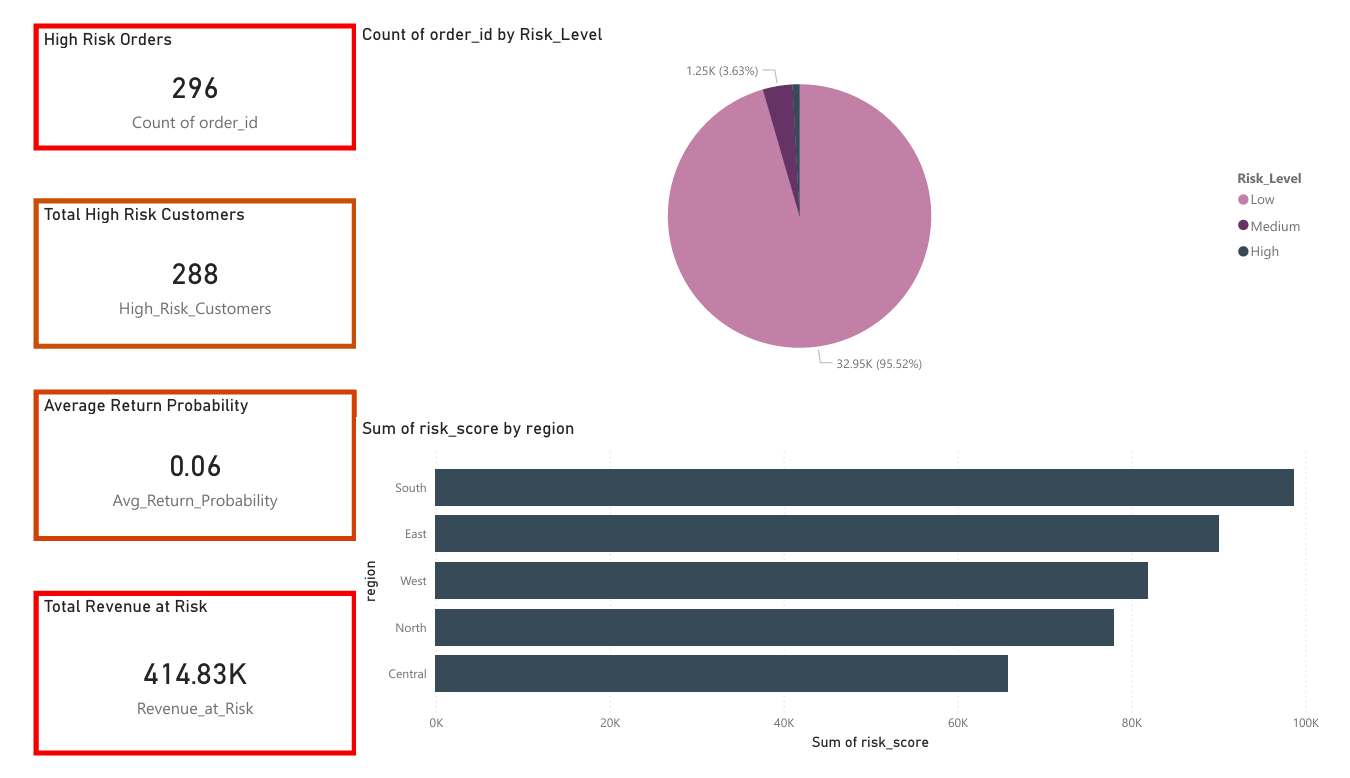

The page's visual inventory and layout, read from the dashboard file:
{"tool":"powerbi","page":{"name":"Risk Monitoring Dashboard","canvas":[1280,720],"ordinal":1},"visuals":[{"type":"card","title":"High Risk Orders","fields":{"Values":["CountNonNull(ai_output.order_id)"]},"box":[9.6,0,318.4,124.9],"z":0},{"type":"card","title":"Total Revenue at Risk","fields":{"Values":["ai_output.Revenue_at_Risk"]},"box":[9.6,558.5,318.4,161.9],"z":1000},{"type":"card","title":"Total High Risk Customers","fields":{"Values":["ai_output.High_Risk_Customers"]},"box":[9.6,171.5,318.4,148.2],"z":2000},{"type":"card","title":"Average Return Probability","fields":{"Values":["ai_output.Avg_Return_Probability"]},"box":[9.6,359.5,318.4,149.6],"z":3000},{"type":"pieChart","fields":{"Category":["ai_output.Risk_Level"],"Y":["CountNonNull(ai_output.order_id)"]},"box":[328,0,952.3,359.5],"z":4000},{"type":"barChart","fields":{"Category":["ai_output.region"],"Y":["Sum(ai_output.risk_score)"]},"box":[328,388.3,952.3,332.1],"z":5000}]}

Visuals, with their boxes in screenshot pixels (x1, y1, x2, y2), scaled from the page's 1280x720 canvas onto the 1350x778 screenshot:
"High Risk Orders" card: bbox=[10, 0, 346, 135]
"Total Revenue at Risk" card: bbox=[10, 603, 346, 777]
"Total High Risk Customers" card: bbox=[10, 185, 346, 345]
"Average Return Probability" card: bbox=[10, 388, 346, 550]
pieChart - ai_output.Risk_Level x CountNonNull(ai_output.order_id): bbox=[346, 0, 1349, 388]
barChart - ai_output.region x Sum(ai_output.risk_score): bbox=[346, 420, 1349, 777]
